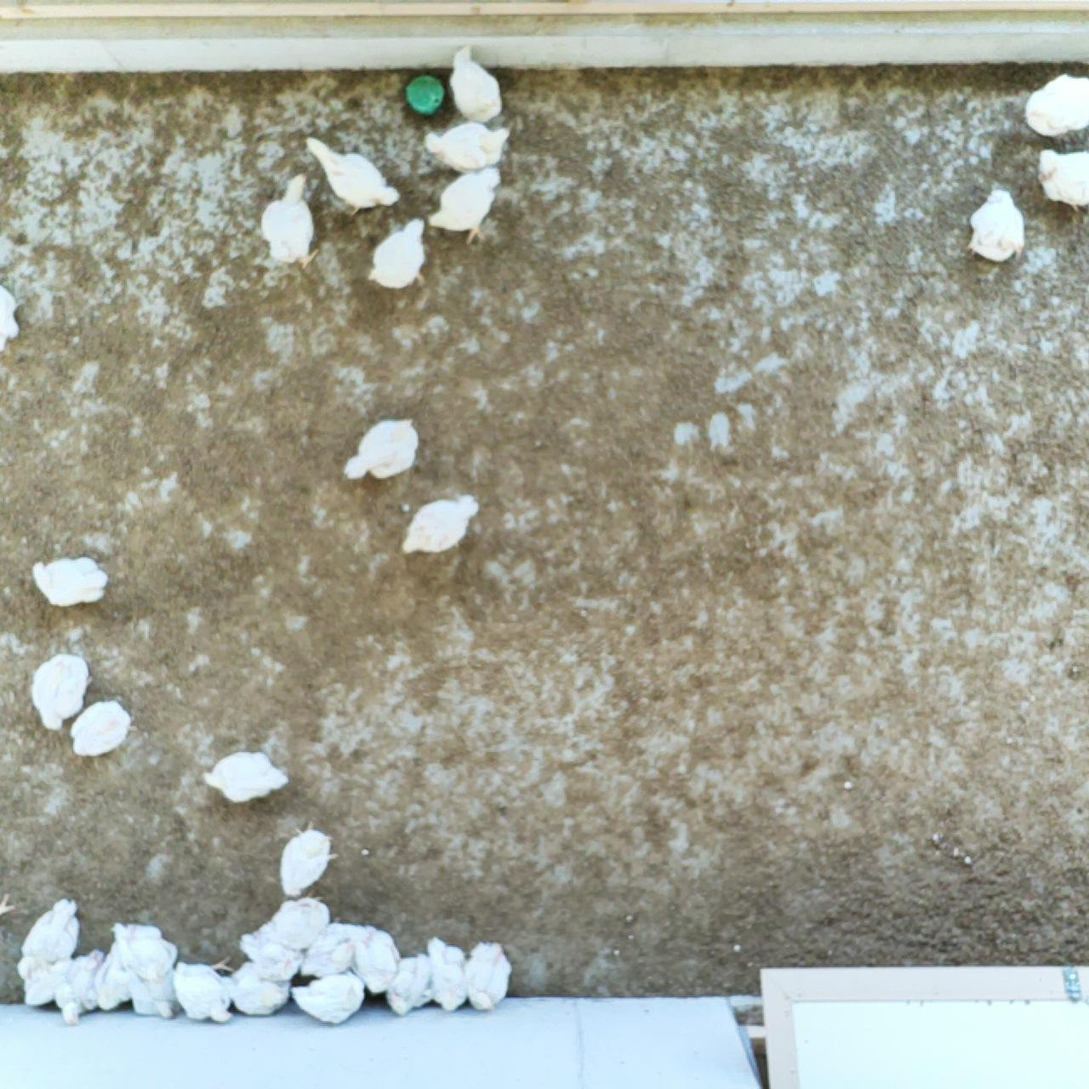chicken: (301, 133, 404, 222), (423, 162, 507, 248), (259, 170, 326, 274), (395, 487, 480, 563), (960, 180, 1030, 269), (14, 892, 84, 980), (340, 414, 421, 489), (274, 816, 341, 906), (201, 745, 292, 810), (26, 649, 97, 731), (108, 914, 180, 993), (250, 885, 332, 953), (364, 214, 431, 297), (446, 40, 508, 126), (28, 548, 114, 610), (170, 954, 243, 1026), (51, 946, 110, 1032), (420, 117, 512, 172), (288, 968, 371, 1028), (1022, 69, 1089, 139), (66, 694, 133, 764), (220, 956, 293, 1019), (460, 936, 515, 1013), (1030, 143, 1089, 214), (383, 947, 438, 1019), (352, 918, 403, 995), (237, 927, 305, 984), (424, 933, 471, 1014), (296, 917, 353, 982), (120, 965, 183, 1022), (91, 935, 133, 1013), (0, 279, 23, 361), (22, 965, 57, 1010)
